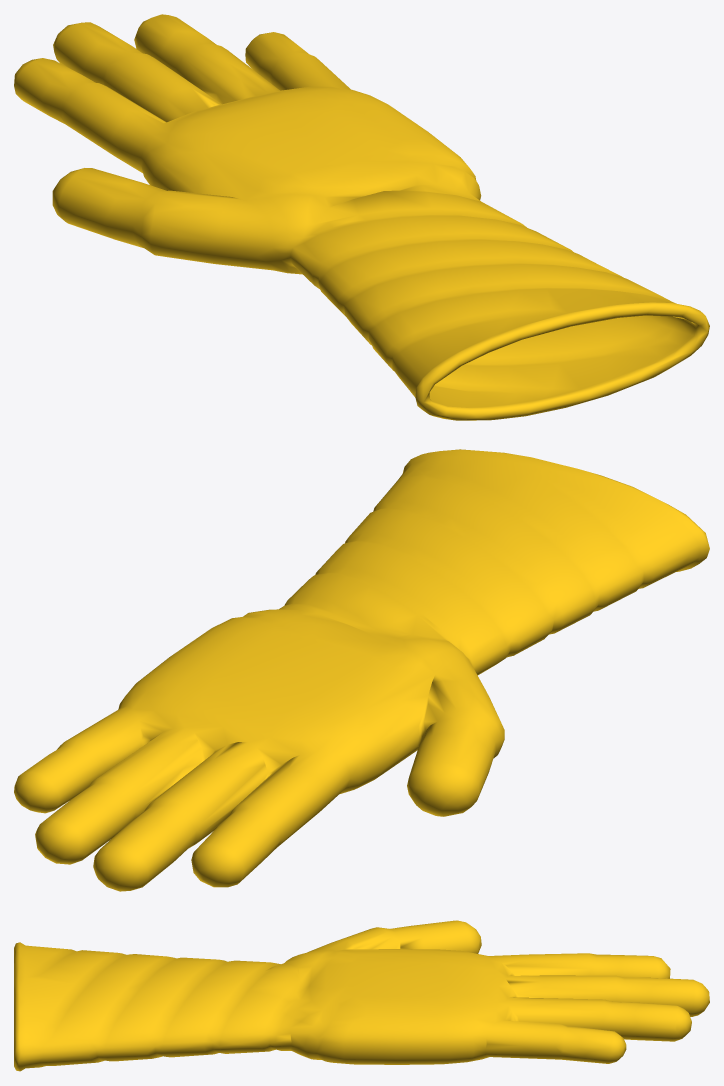
File: SM_Distractor_RubberGlove_Right.fbx
The picture shows the model from 3 angles, top to bottom: view 1: azimuth 30°, elevation 25°; view 2: azimuth 150°, elevation 25°; view 3: azimuth 270°, elevation 25°; orthographic projection. The views are drawn at different scales.
Visible parts, largest first — view 1: SM_Distractor_RubberGlove_Left; view 2: SM_Distractor_RubberGlove_Left; view 3: SM_Distractor_RubberGlove_Left.
Boxes of the visible parts, bbox=[...] form: SM_Distractor_RubberGlove_Left: bbox=[14, 14, 709, 420]; SM_Distractor_RubberGlove_Left: bbox=[14, 449, 709, 891]; SM_Distractor_RubberGlove_Left: bbox=[14, 920, 709, 1071].
Bounding box in the file's own units: 12.04 × 2.93 × 26.72.
